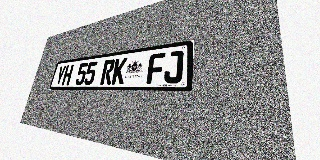5: (83, 61, 98, 85), (75, 63, 88, 85)
F: (146, 52, 166, 84)
H: (61, 64, 74, 85)
J: (163, 50, 184, 83)
K: (111, 57, 128, 84)
R: (100, 59, 115, 85)
Y: (54, 65, 67, 86)
